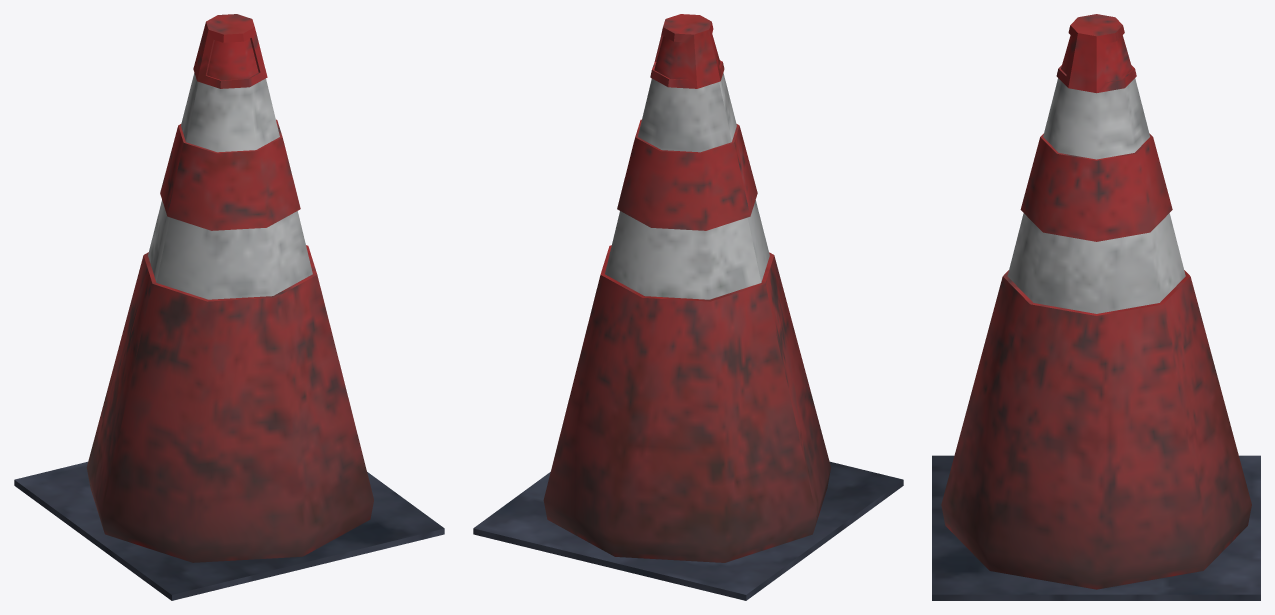
Rendered from TrafficCone_SM.fbx.
The picture shows the model from 3 angles, left to right: view 1: azimuth 30°, elevation 25°; view 2: azimuth 150°, elevation 25°; view 3: azimuth 270°, elevation 25°; orthographic projection. The views are drawn at different scales.
Visible parts, largest first — view 1: Cylinder003; view 2: Cylinder003; view 3: Cylinder003.
Boxes of the visible parts, x1,y1,x2,y2 form: Cylinder003: (14, 14, 444, 600); Cylinder003: (473, 14, 903, 600); Cylinder003: (932, 14, 1260, 600).
Size of the model in its own units: 42.06 by 71.5 by 42.06.
